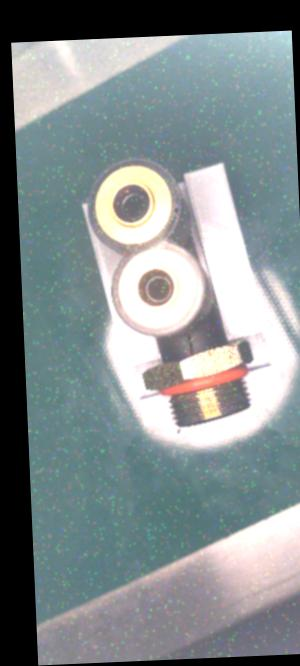craze: (184, 331, 197, 357)
